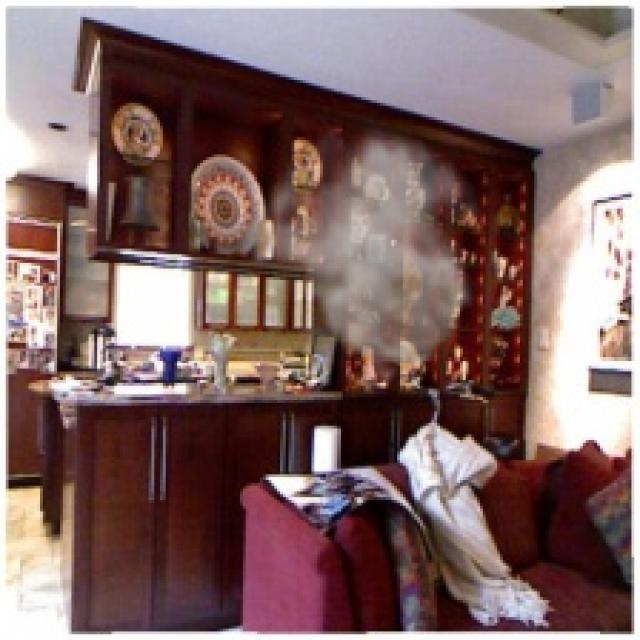smoke: (223, 120, 497, 389)
